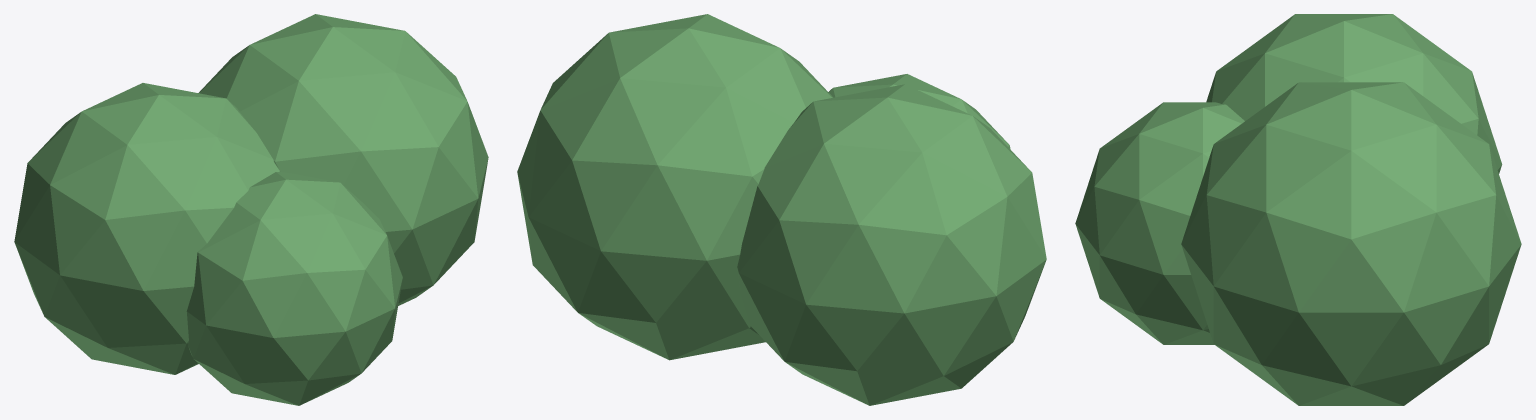
File: Bushes.fbx
3 views of the same model, side by side, from view 1: azimuth 30°, elevation 25°; view 2: azimuth 150°, elevation 25°; view 3: azimuth 270°, elevation 25° (orthographic). The views are drawn at different scales.
Parts seen in each view (by area): view 1: Bushes; view 2: Bushes; view 3: Bushes.
Part boxes in pixels (<box>): Bushes: <box>14,14,488,405</box>; Bushes: <box>517,14,1046,405</box>; Bushes: <box>1075,14,1521,405</box>.
Bounding box in the file's own units: 1111 × 716 × 934.
